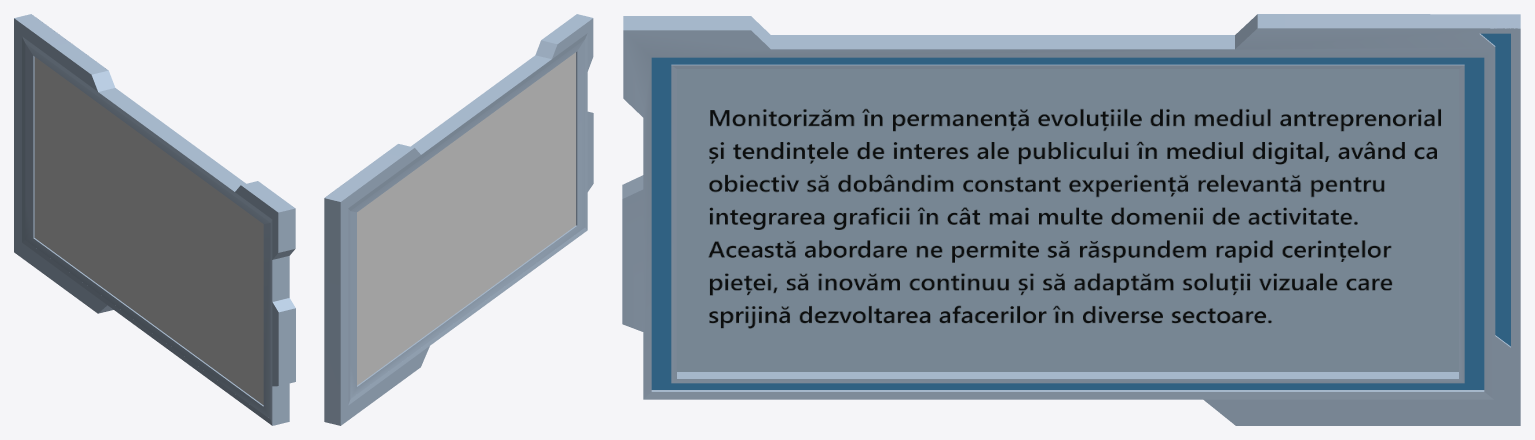
File: Disketa-mica-1.glb
3 views of the same model, side by side, from view 1: azimuth 30°, elevation 25°; view 2: azimuth 150°, elevation 25°; view 3: azimuth 270°, elevation 25° (orthographic). The views are drawn at different scales.
Parts seen in each view (by area): view 1: spate, rama exterioara; view 2: spate, rama exterioara; view 3: view, rama exterioara, rama interioara, rama dreapta.
Boxes of the visible parts, left/top/right/bottom form: spate: left=34, top=57, right=263, bottom=404; rama exterioara: left=14, top=14, right=295, bottom=425; spate: left=357, top=52, right=575, bottom=385; rama exterioara: left=324, top=14, right=593, bottom=425; view: left=677, top=69, right=1458, bottom=371; rama exterioara: left=622, top=14, right=1520, bottom=425; rama interioara: left=651, top=57, right=1484, bottom=389; rama dreapta: left=1481, top=33, right=1510, bottom=346.
Size of the model in its own units: 0.1833 by 2.38 by 4.87.
Materials: 4 (1 with a texture image).
